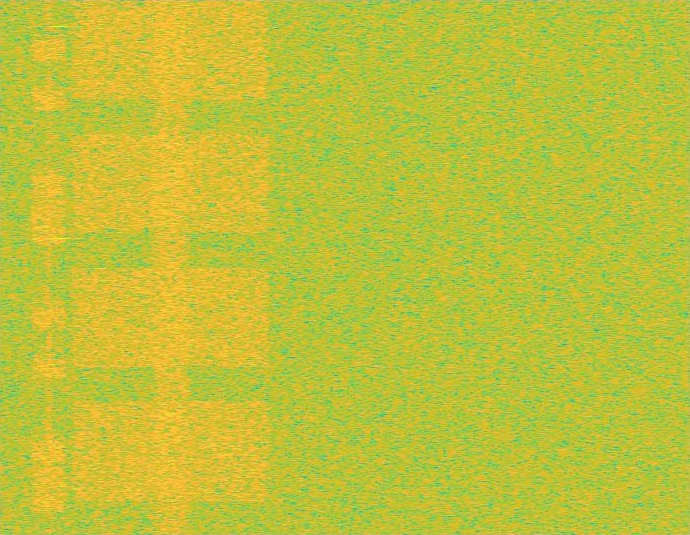5G: (67, 0, 274, 534)
DSSS: (147, 0, 194, 534), (47, 0, 51, 534)
LTE: (32, 0, 66, 534)
Radar: (52, 0, 66, 534)
